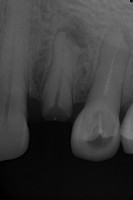Furcation Involvement: (59, 17, 87, 48)
